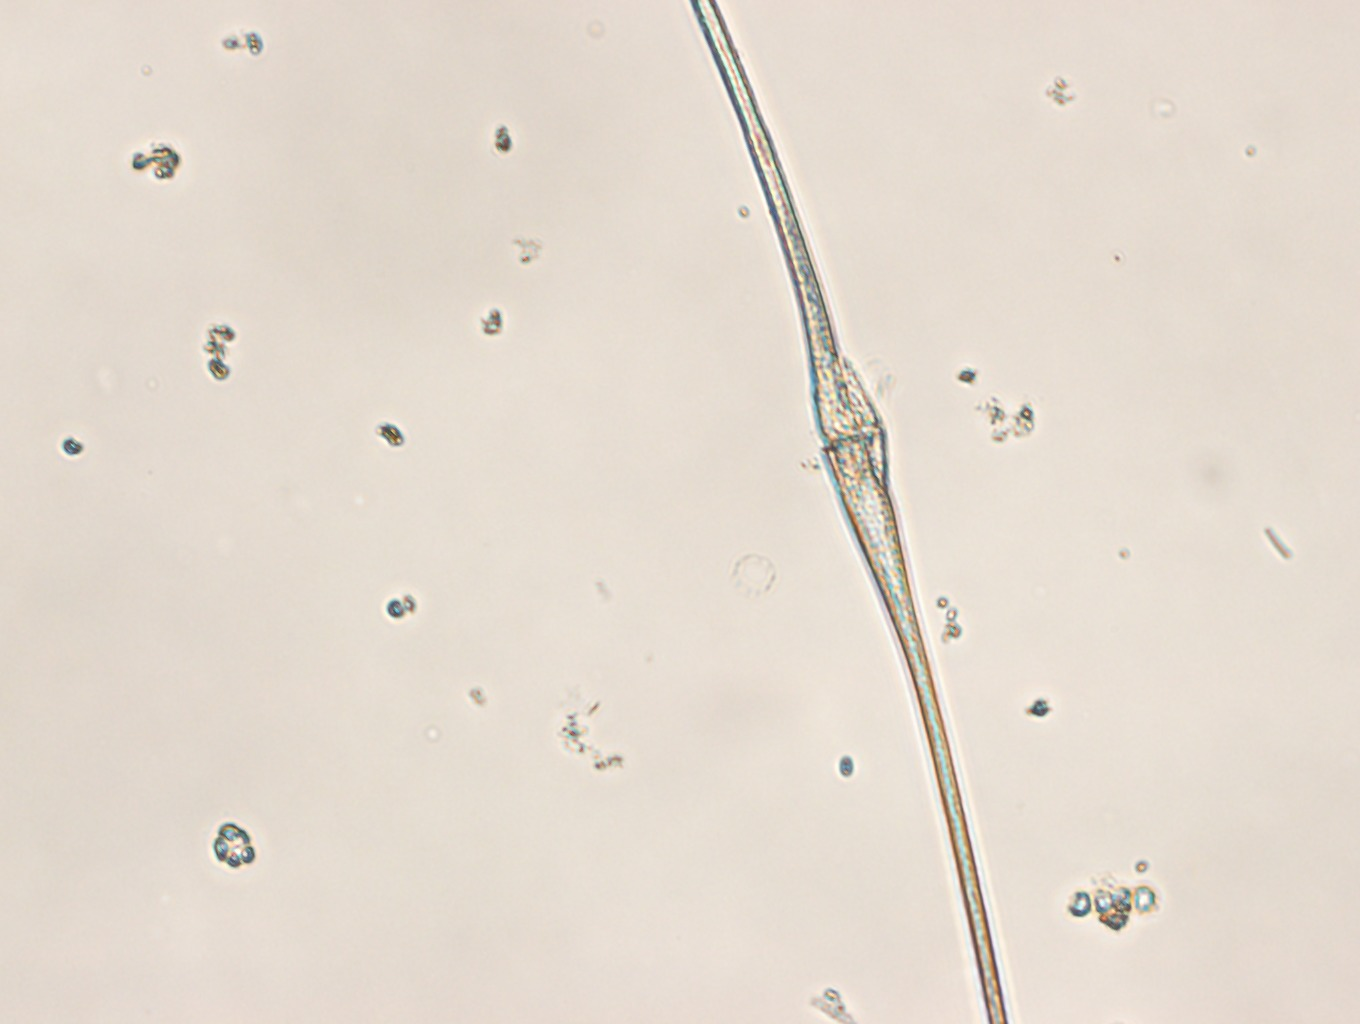ceratium fusus: (687, 2, 1007, 1024)
